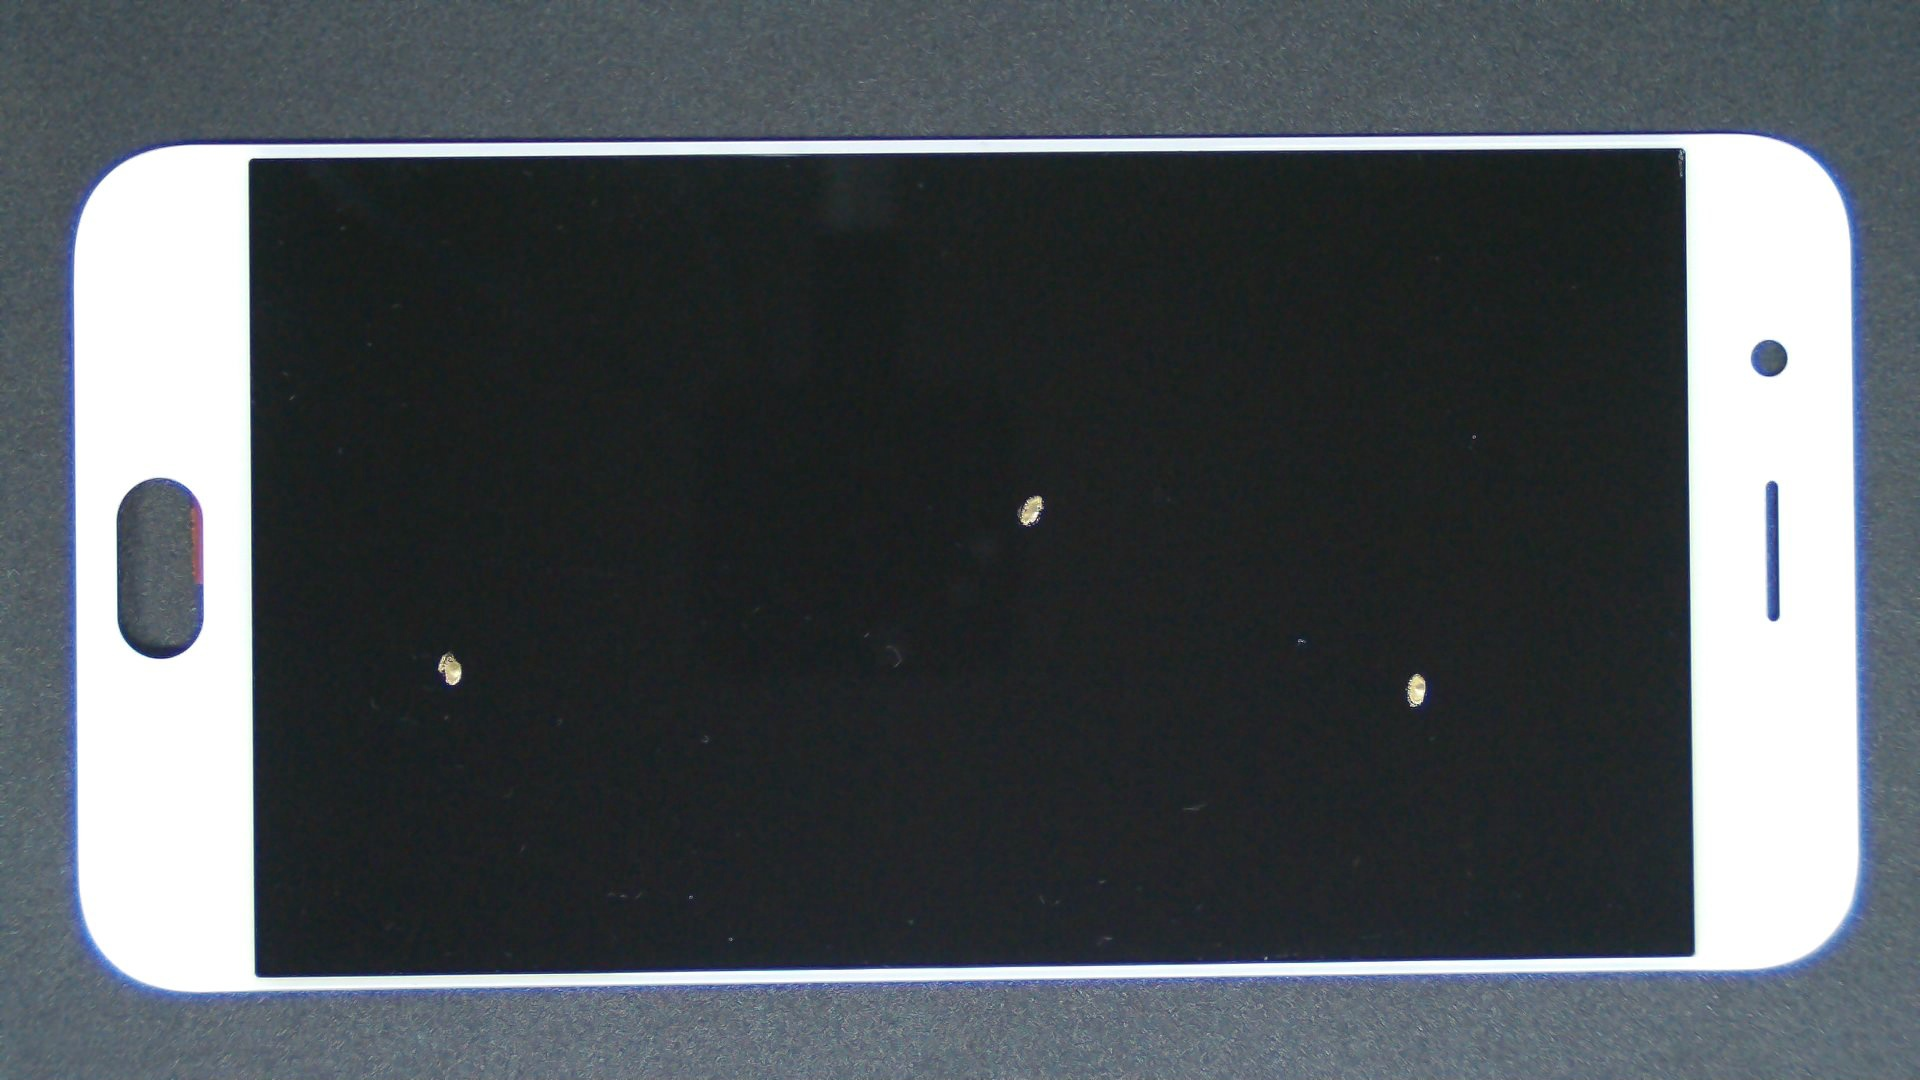oil: (707, 336, 1920, 1010), (518, 247, 1553, 741), (224, 324, 670, 976)
